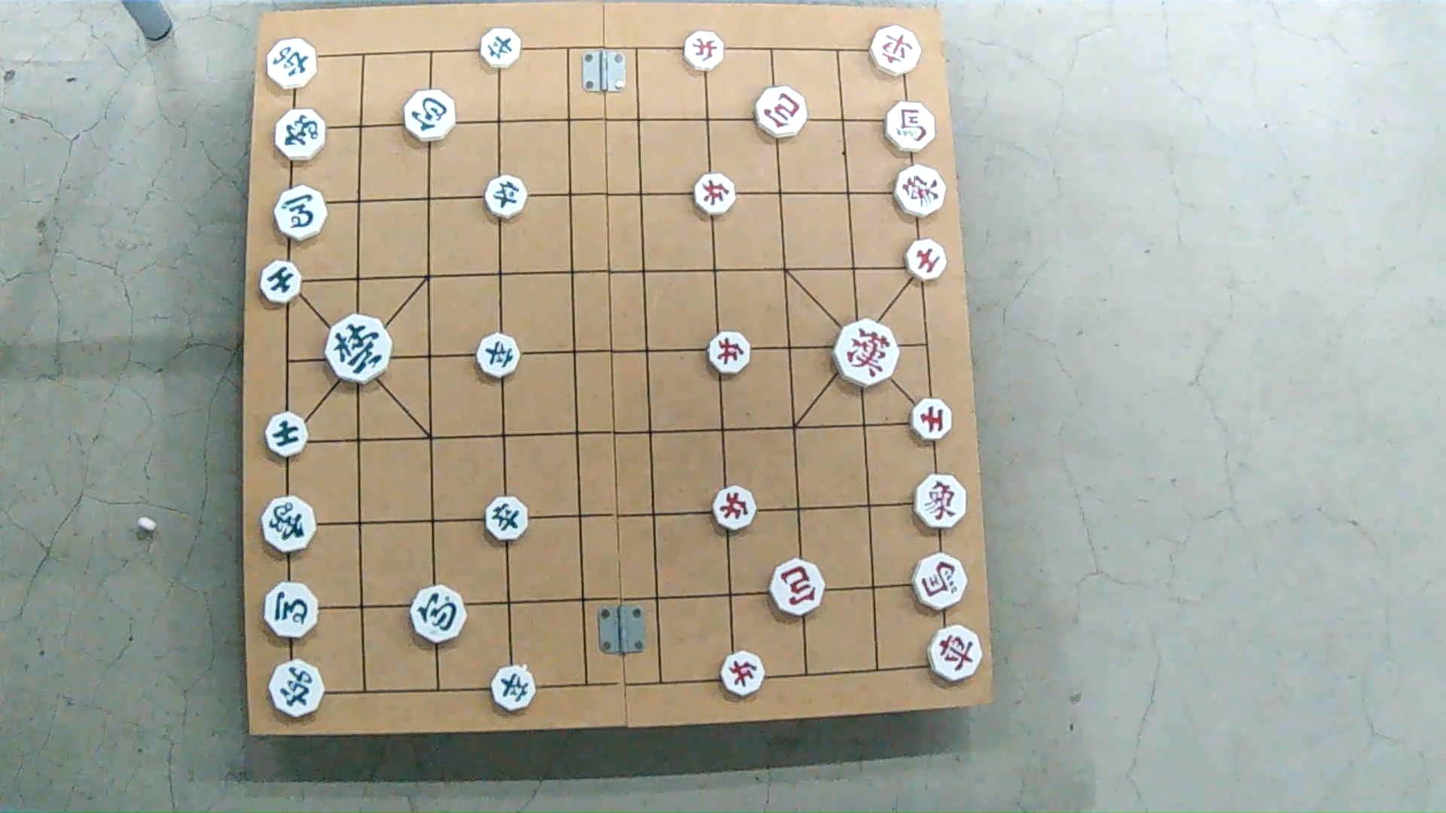cha_green: (268, 659, 327, 717), (264, 38, 319, 91)
cha_red: (927, 625, 984, 681), (871, 26, 923, 77)
jol_green: (489, 665, 536, 710), (475, 333, 520, 376), (484, 499, 527, 542), (484, 177, 527, 218), (478, 29, 520, 68)
jol_red: (705, 333, 750, 375), (712, 486, 755, 529), (722, 654, 767, 695), (694, 174, 737, 214), (683, 32, 725, 71)
ma_green: (263, 580, 319, 638), (275, 188, 328, 240)
ma_red: (912, 552, 971, 610), (883, 104, 935, 153)
po_green: (412, 585, 467, 642), (402, 90, 454, 140)
po_red: (771, 562, 826, 614), (755, 89, 808, 139)
sa_green: (267, 416, 310, 458), (261, 261, 302, 303)
sa_red: (903, 238, 947, 279), (914, 399, 952, 441)
sang_green: (261, 496, 316, 555), (275, 111, 328, 161)
sang_red: (916, 475, 969, 528), (895, 163, 944, 215)
wang_green: (326, 314, 396, 383)
wang_red: (832, 324, 901, 383)
